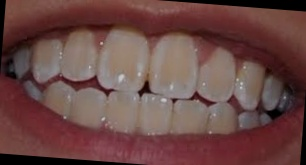Tooth Discoloration: (156, 40, 195, 93), (104, 36, 142, 81)
